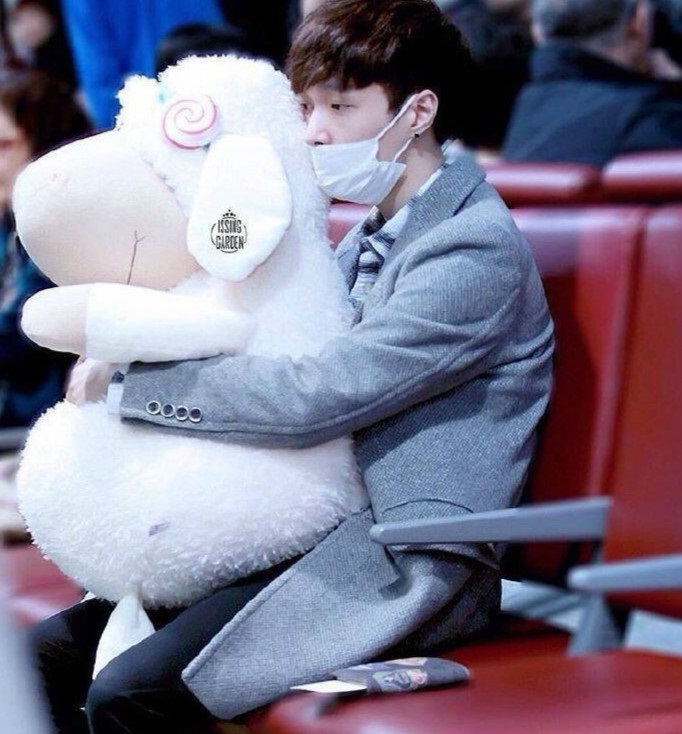face_mask: (303, 60, 398, 205)
